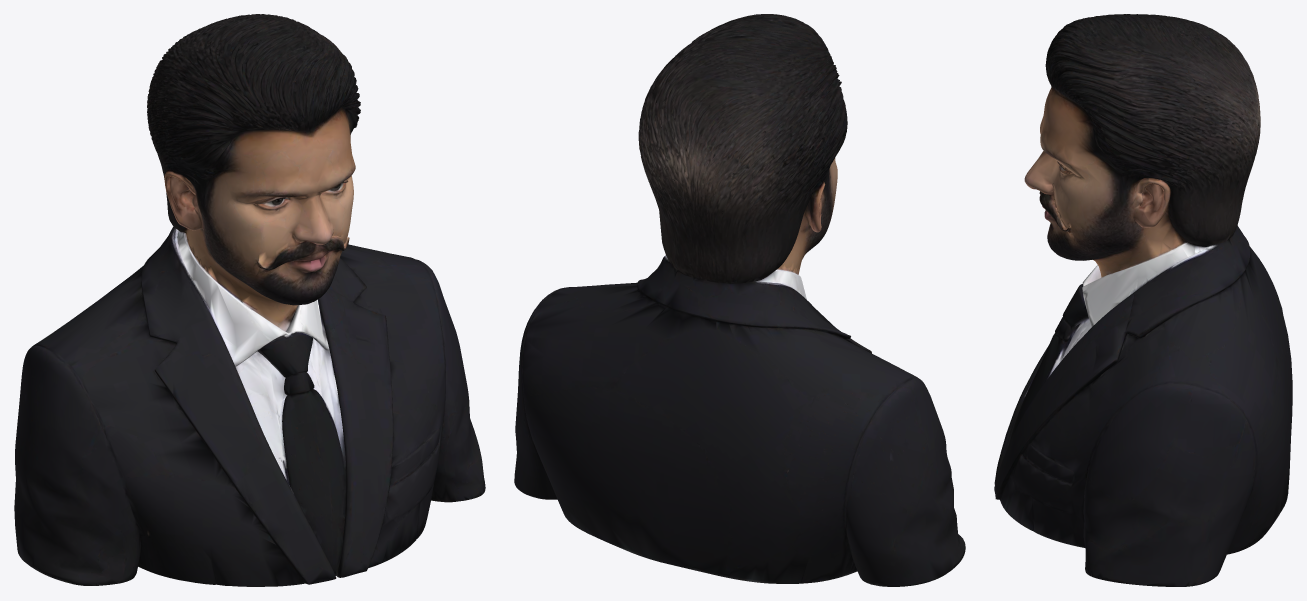
File: chetan-kumar-lite.glb
The picture shows the model from 3 angles, left to right: view 1: azimuth 30°, elevation 25°; view 2: azimuth 150°, elevation 25°; view 3: azimuth 270°, elevation 25°; orthographic projection. The views are drawn at different scales.
Parts seen in each view (by area): view 1: node_0; view 2: node_0; view 3: node_0.
Part boxes in pixels (x1,y1,x2,y2): node_0: (14,14,485,586); node_0: (514,14,965,586); node_0: (994,14,1292,586).
Size of the model in its own units: 0.8139 by 0.8693 by 0.5089.
Materials: 1 (1 with a texture image).
